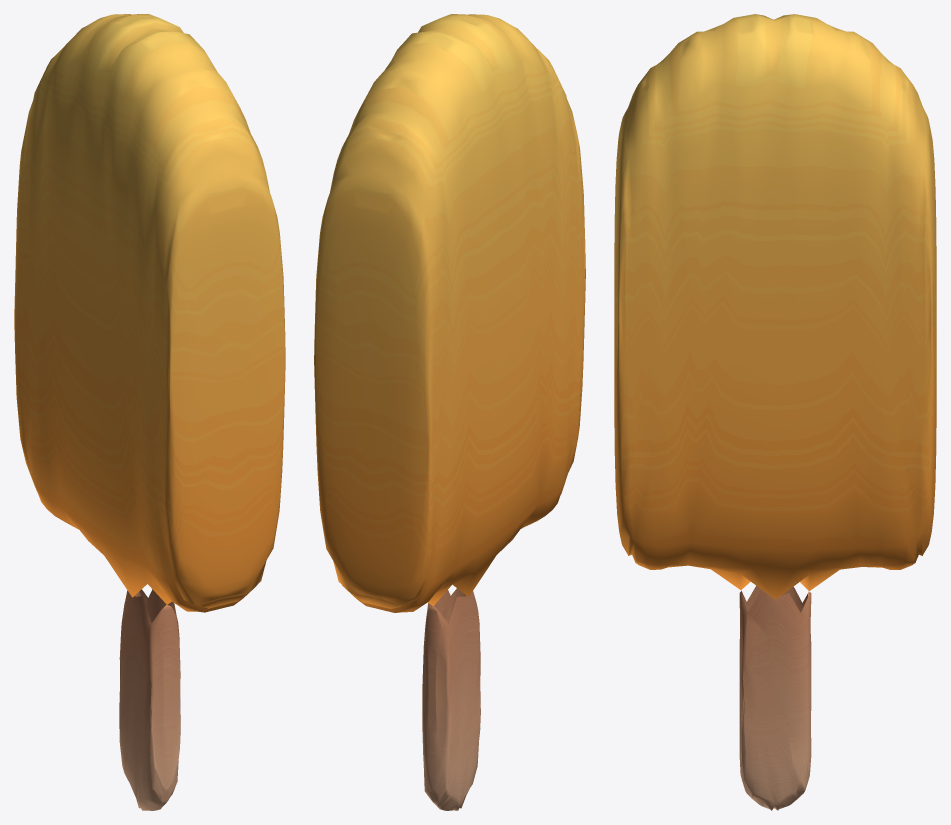
3 renders of one model, left to right at view 1: azimuth 30°, elevation 25°; view 2: azimuth 150°, elevation 25°; view 3: azimuth 270°, elevation 25°, orthographic.
Bounding box in the file's own units: 0.153 × 0.991 × 0.3673.
1 material, 1 textured.
